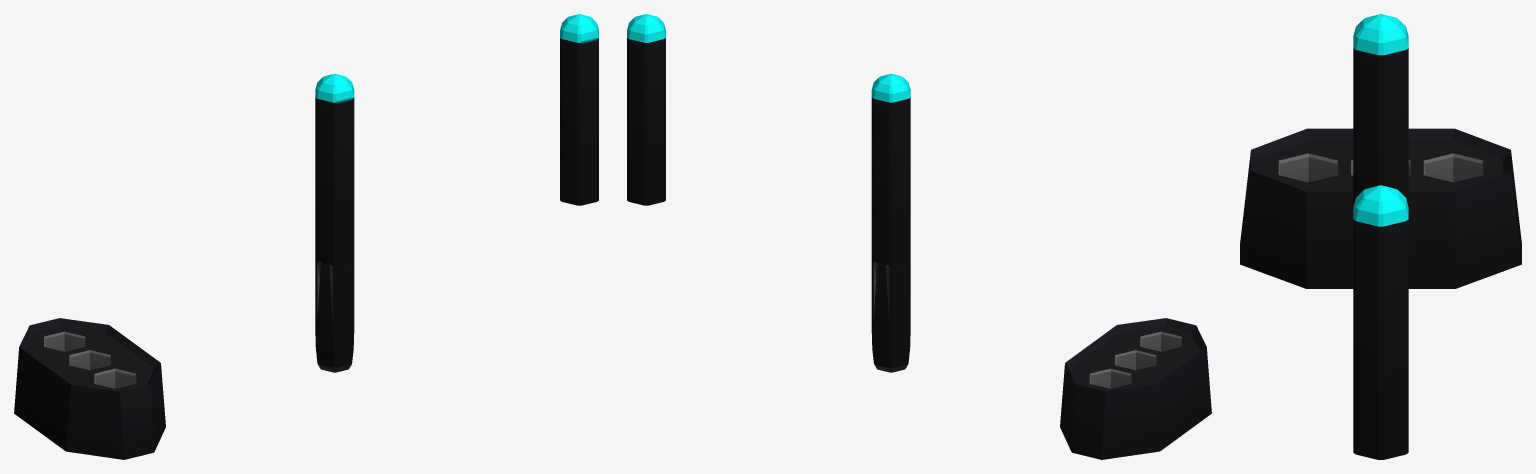
Rendered from Turret MK2 Missile Launcher.glb.
The picture shows the model from 3 angles, left to right: view 1: azimuth 30°, elevation 25°; view 2: azimuth 150°, elevation 25°; view 3: azimuth 270°, elevation 25°; orthographic projection. The views are drawn at different scales.
Visible parts, largest first — view 1: MK_2_Missile_Launcher_Base, Missile_MK_2_Base, Fake MIssile MK2, Missile_MK_2_Fin_3; view 2: MK_2_Missile_Launcher_Base, Missile_MK_2_Base, Fake MIssile MK2, Missile_MK_2_Fin_1; view 3: MK_2_Missile_Launcher_Base, Fake MIssile MK2, Missile_MK_2_Base.
Boxes of the visible parts, x1,y1,x2,y2 form: MK_2_Missile_Launcher_Base: [14, 318, 165, 459]; Missile_MK_2_Base: [315, 73, 354, 372]; Fake MIssile MK2: [560, 14, 598, 205]; Missile_MK_2_Fin_3: [317, 262, 332, 353]; MK_2_Missile_Launcher_Base: [1060, 318, 1211, 459]; Missile_MK_2_Base: [871, 73, 910, 372]; Fake MIssile MK2: [627, 14, 665, 205]; Missile_MK_2_Fin_1: [873, 262, 889, 353]; MK_2_Missile_Launcher_Base: [1240, 128, 1521, 288]; Fake MIssile MK2: [1353, 185, 1408, 459]; Missile_MK_2_Base: [1353, 14, 1408, 206].
Bounding box in the file's own units: 1.14 × 0.5681 × 0.3479.
1 material, 1 textured.
